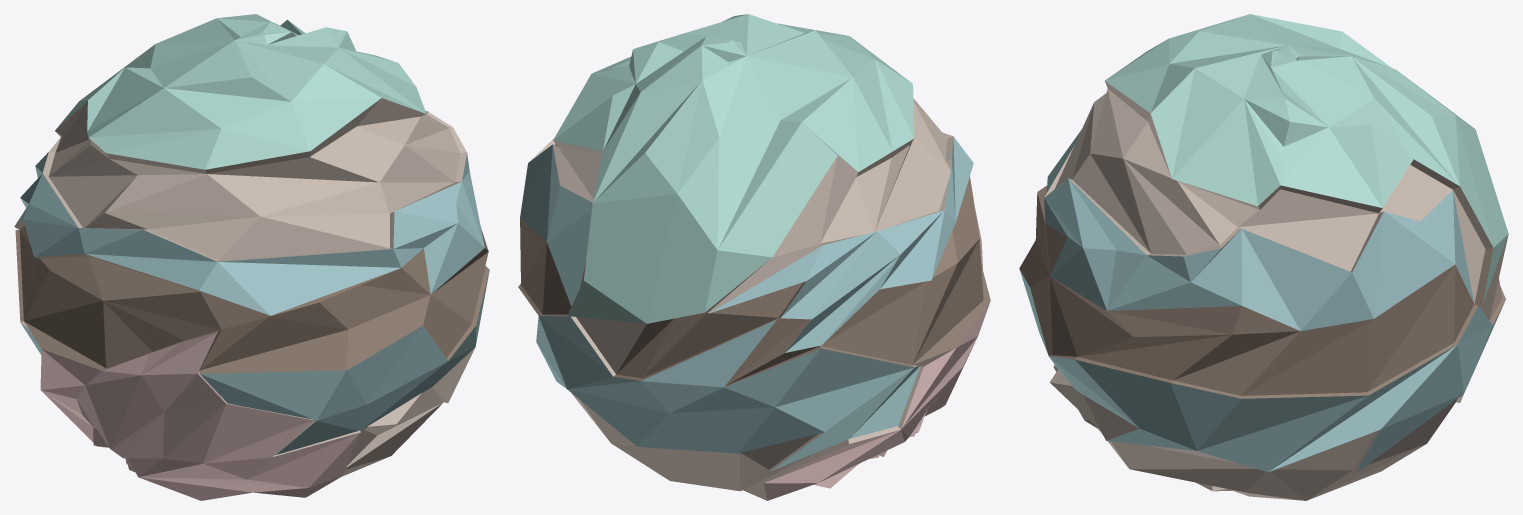
File: Jupiter.fbx
The picture shows the model from 3 angles, left to right: view 1: azimuth 30°, elevation 25°; view 2: azimuth 150°, elevation 25°; view 3: azimuth 270°, elevation 25°; orthographic projection. The views are drawn at different scales.
Parts seen in each view (by area): view 1: jupiter1; view 2: jupiter1; view 3: jupiter1.
Boxes of the visible parts, left/top/right/bottom form: jupiter1: left=14, top=14, right=489, bottom=500; jupiter1: left=518, top=14, right=990, bottom=500; jupiter1: left=1019, top=14, right=1508, bottom=500.
Bounding box in the file's own units: 7.73 × 7.9 × 7.79.
